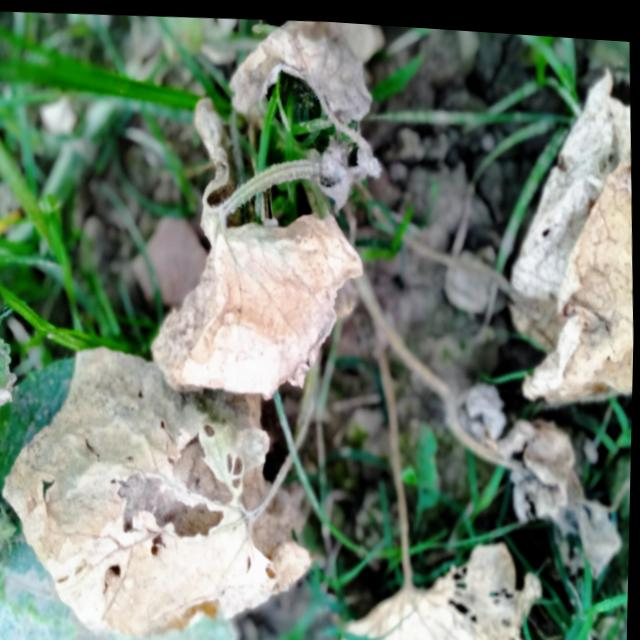Bacterial-Wilt: (4, 339, 314, 638), (153, 86, 366, 393)
